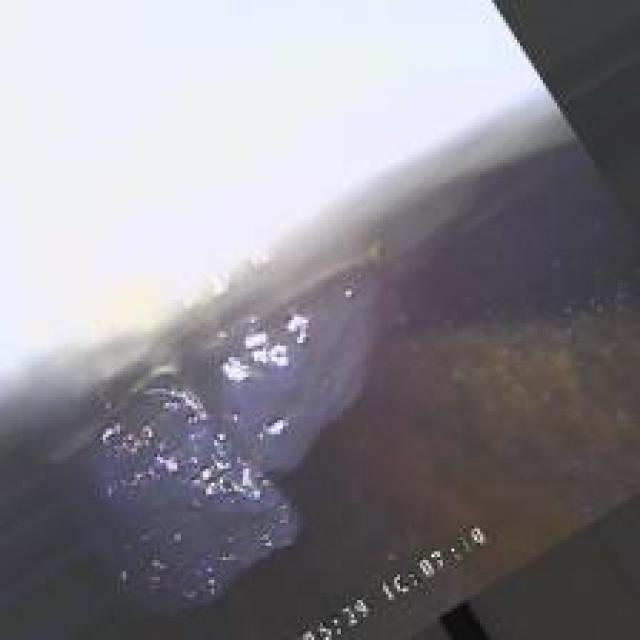stone: (80, 308, 406, 566)
